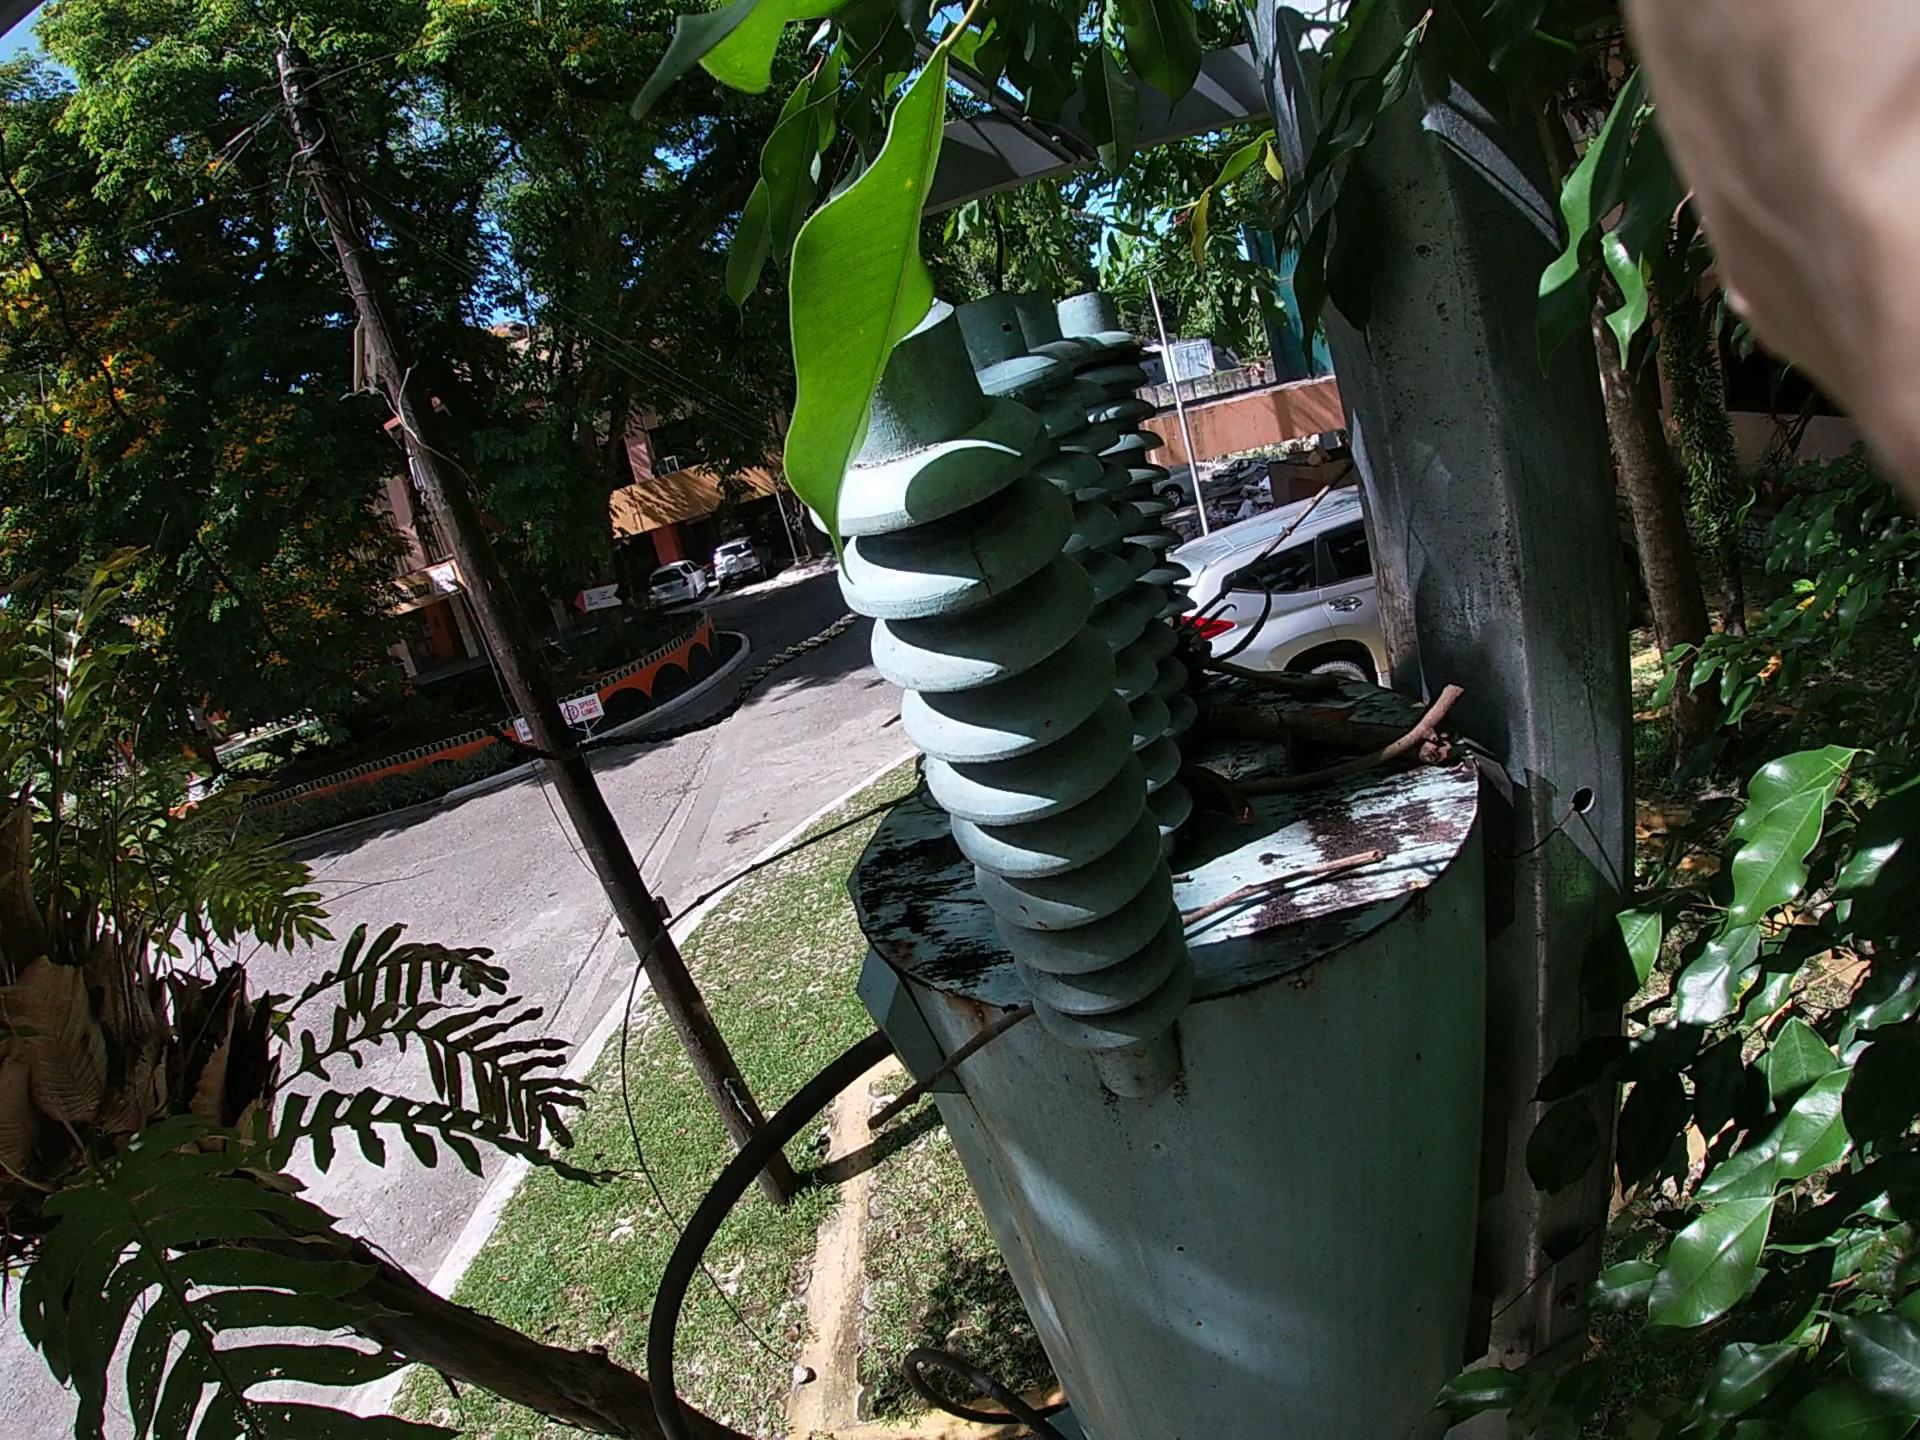leaf: (1252, 675, 1414, 824)
mahogany fruit: (1197, 631, 1358, 777), (983, 911, 989, 915)
tree branch: (482, 312, 1318, 1010), (821, 870, 1512, 1151), (1188, 703, 1463, 826), (1184, 709, 1468, 756)
